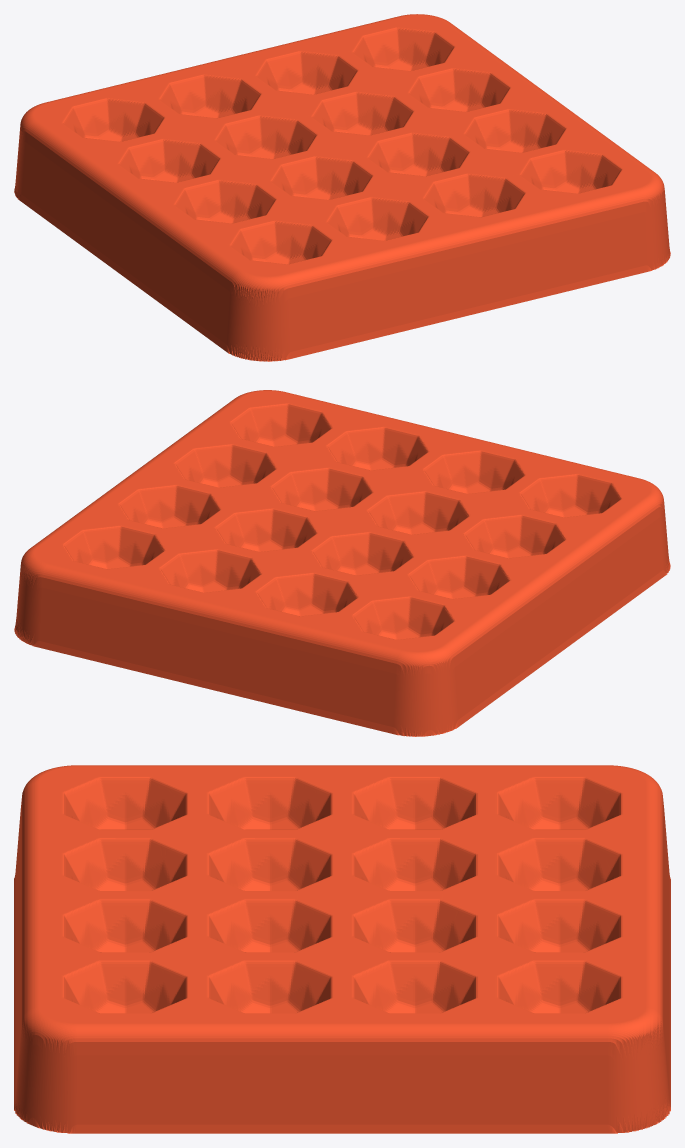
The model's file is mold.glb.
3 renders of one model, top to bottom at view 1: azimuth 30°, elevation 25°; view 2: azimuth 150°, elevation 25°; view 3: azimuth 270°, elevation 25°, orthographic. The views are drawn at different scales.
Visible parts, largest first — view 1: geometry_0; view 2: geometry_0; view 3: geometry_0.
Part boxes in pixels (box(x1,y1,x2,y2)): geometry_0: box(14, 14, 670, 361); geometry_0: box(14, 390, 670, 736); geometry_0: box(14, 765, 670, 1133).
Bounding box in the file's own units: 0.0944 × 0.0158 × 0.0944.
